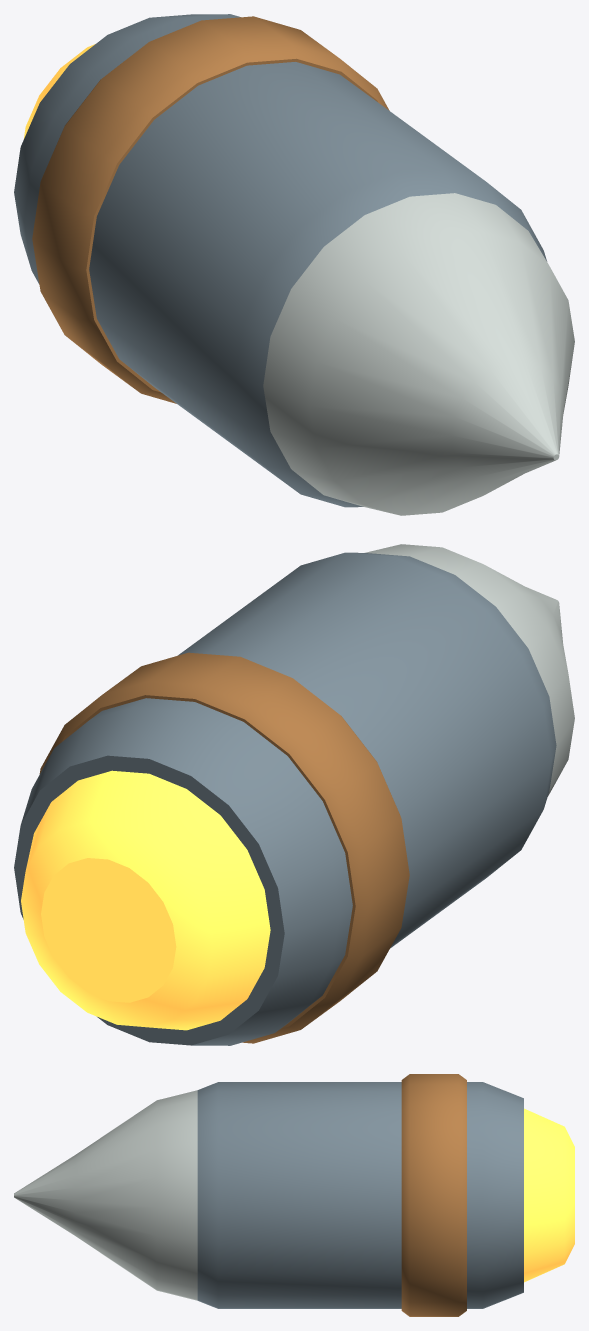
File: siege.glb
3 views of the same model, one above another, from view 1: azimuth 30°, elevation 25°; view 2: azimuth 150°, elevation 25°; view 3: azimuth 270°, elevation 25° (orthographic). The views are drawn at different scales.
Visible parts, largest first — view 1: siege / Machined titanium, siege / Ivory ceramic, siege / Copper driving band; view 2: siege / Machined titanium, siege / Tracer ember, siege / Copper driving band, siege / Ivory ceramic; view 3: siege / Machined titanium, siege / Ivory ceramic, siege / Copper driving band, siege / Tracer ember.
Boxes of the visible parts, x1,y1,x2,y2 form: siege / Machined titanium: (14,14,547,507); siege / Ivory ceramic: (263,193,574,515); siege / Copper driving band: (32,16,389,403); siege / Machined titanium: (14,552,556,1045); siege / Tracer ember: (21,770,270,1030); siege / Copper driving band: (39,652,409,1043); siege / Ivory ceramic: (365,544,574,796); siege / Machined titanium: (197,1082,523,1308); siege / Ivory ceramic: (14,1090,197,1300); siege / Copper driving band: (401,1074,466,1316); siege / Tracer ember: (524,1108,574,1282).
Size of the model in its own units: 12 by 12 by 27.5.
